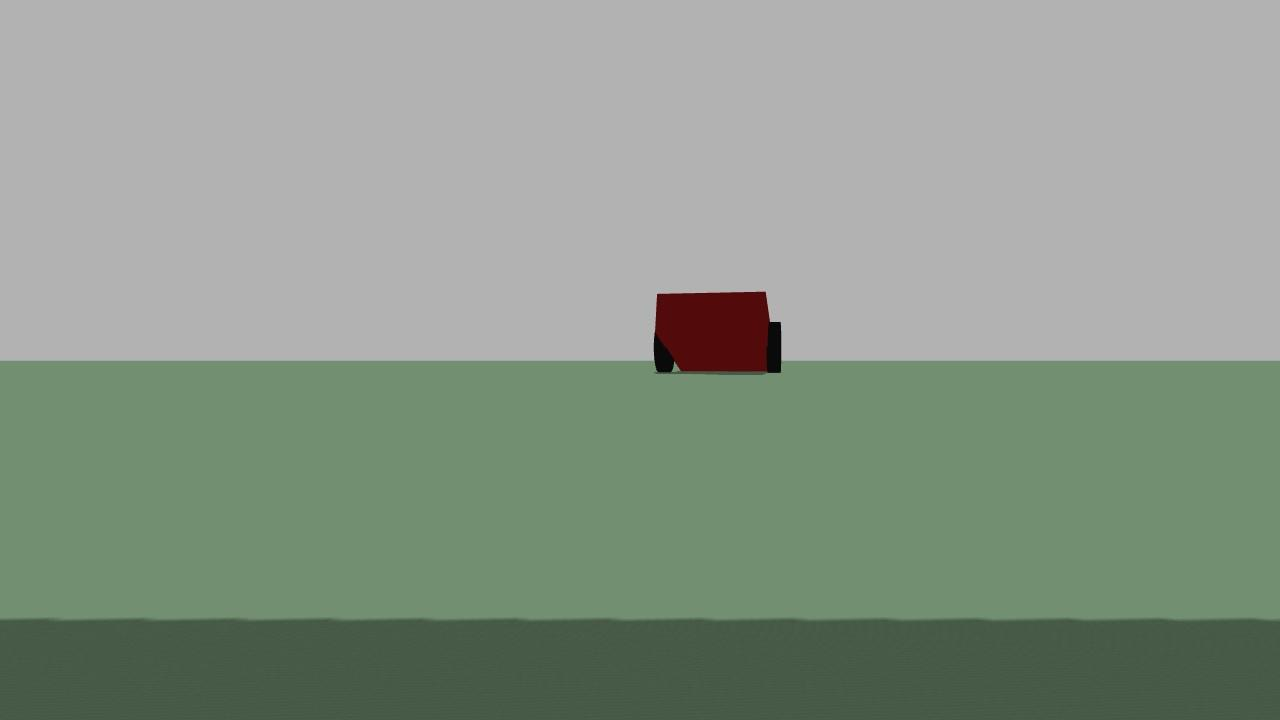ground_vehicle: (652, 283, 788, 379)
